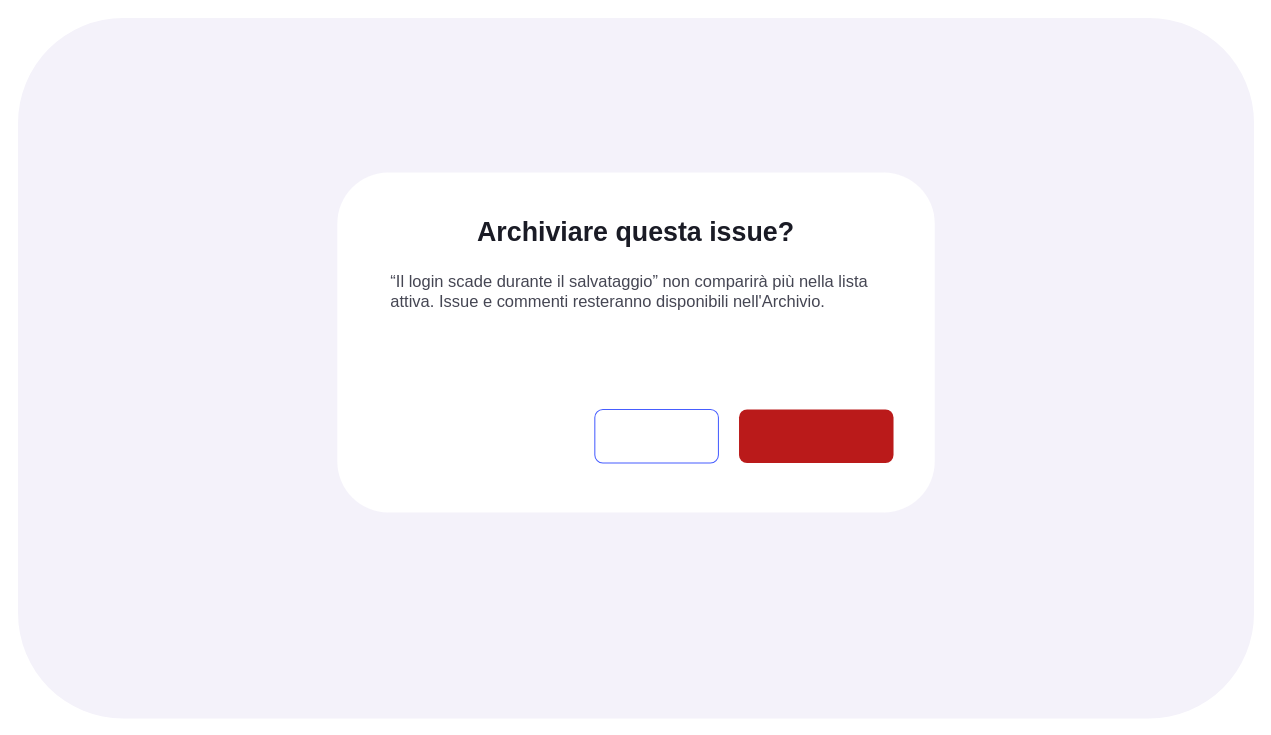
Some shapes in this 1271 by 735 pixel diagram are drawn without their labels. The shapes that lost their labels are listed below. From the top down, each one's centre as x and y in pixels, then its label:
At (656,435): "Annulla".
At (816,435): "Archivia issue".
